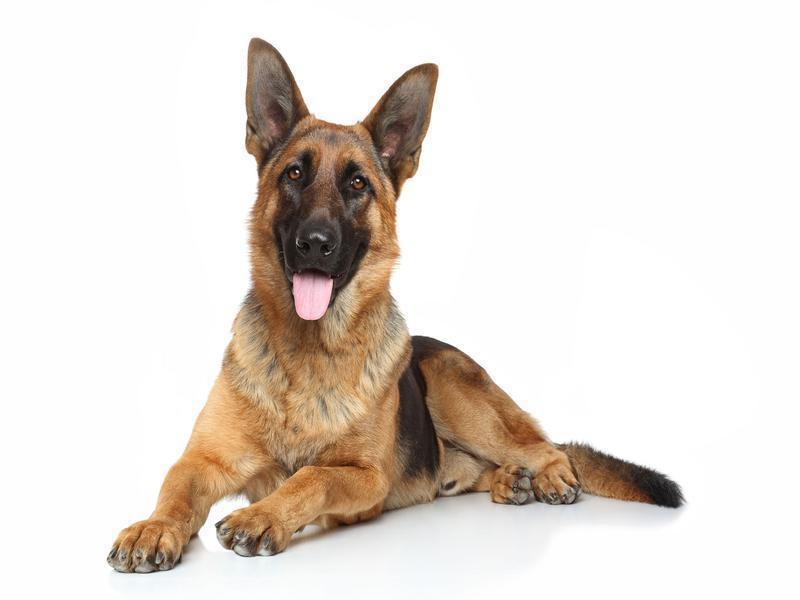dog_down: (102, 36, 687, 578)
